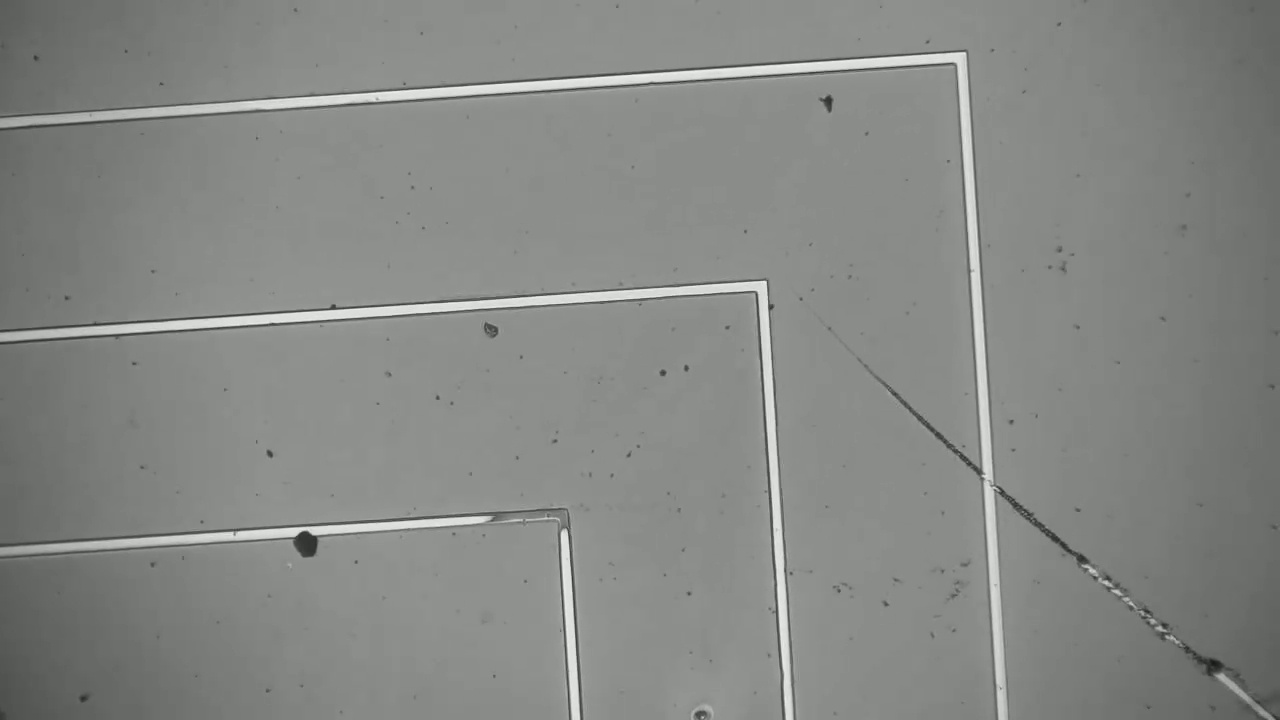gray_line: (470, 498, 587, 541), (545, 486, 581, 551)
scratch: (803, 313, 1275, 719)
stains_enbedded: (280, 513, 332, 569)
